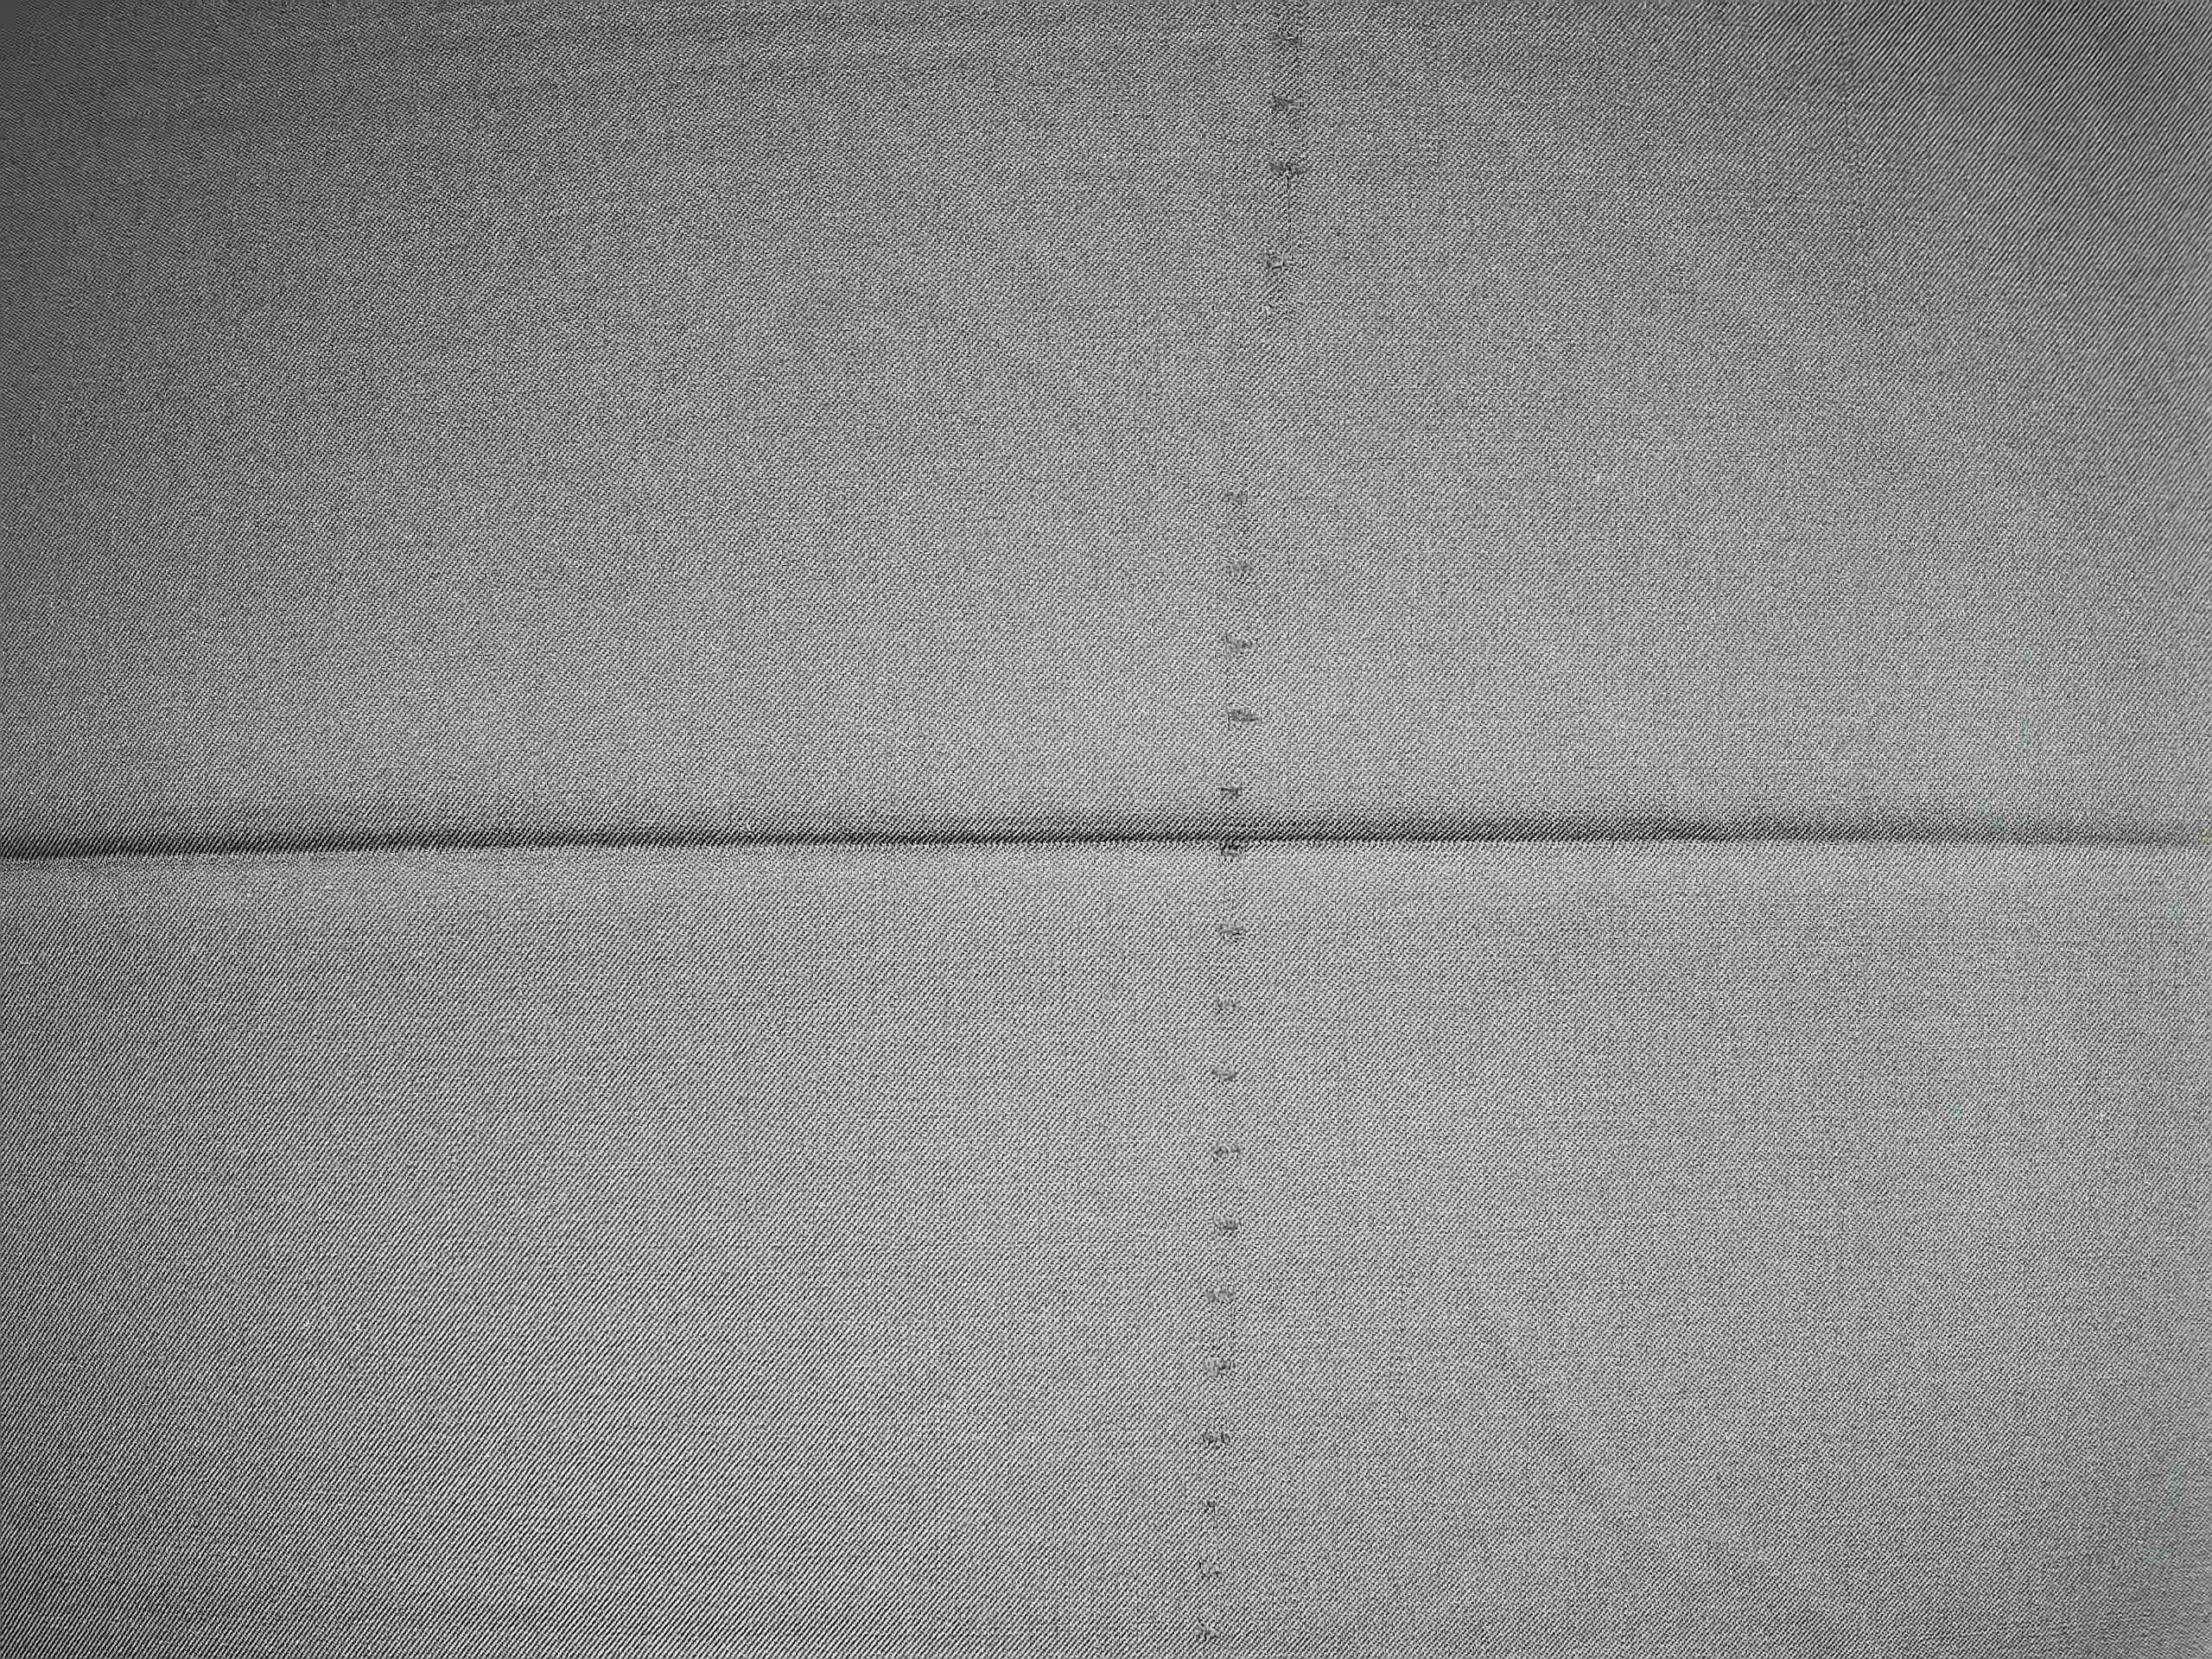puncture-hole: (1181, 21, 1327, 1619)
